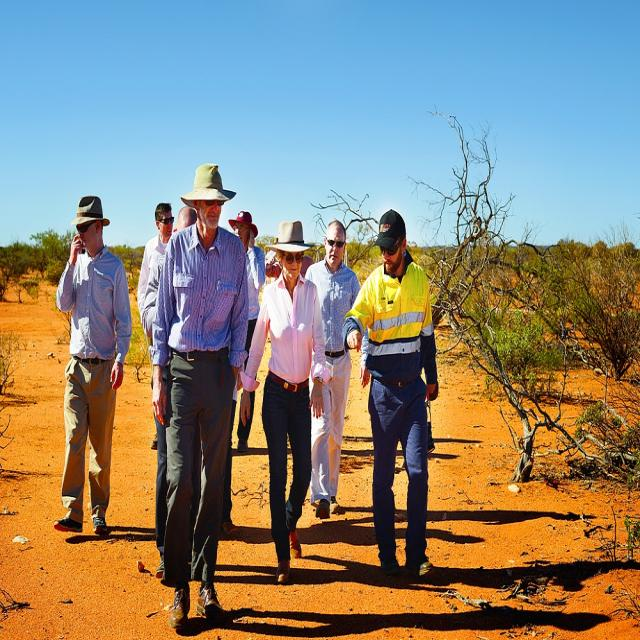body: (61, 421, 640, 638), (148, 161, 251, 634), (340, 206, 440, 584), (236, 218, 330, 590), (52, 190, 133, 536), (141, 204, 200, 578), (304, 218, 364, 520), (262, 227, 319, 455), (226, 209, 266, 456), (136, 202, 176, 341)
